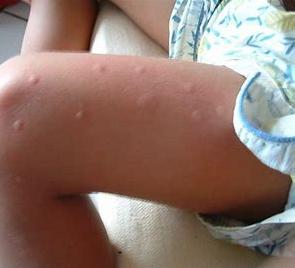Mosquito: (132, 82, 165, 118), (19, 67, 50, 91), (87, 56, 115, 77), (179, 74, 201, 99), (130, 58, 153, 81), (5, 112, 30, 133), (72, 101, 91, 127), (9, 167, 29, 188), (184, 106, 205, 125), (213, 98, 227, 121)
